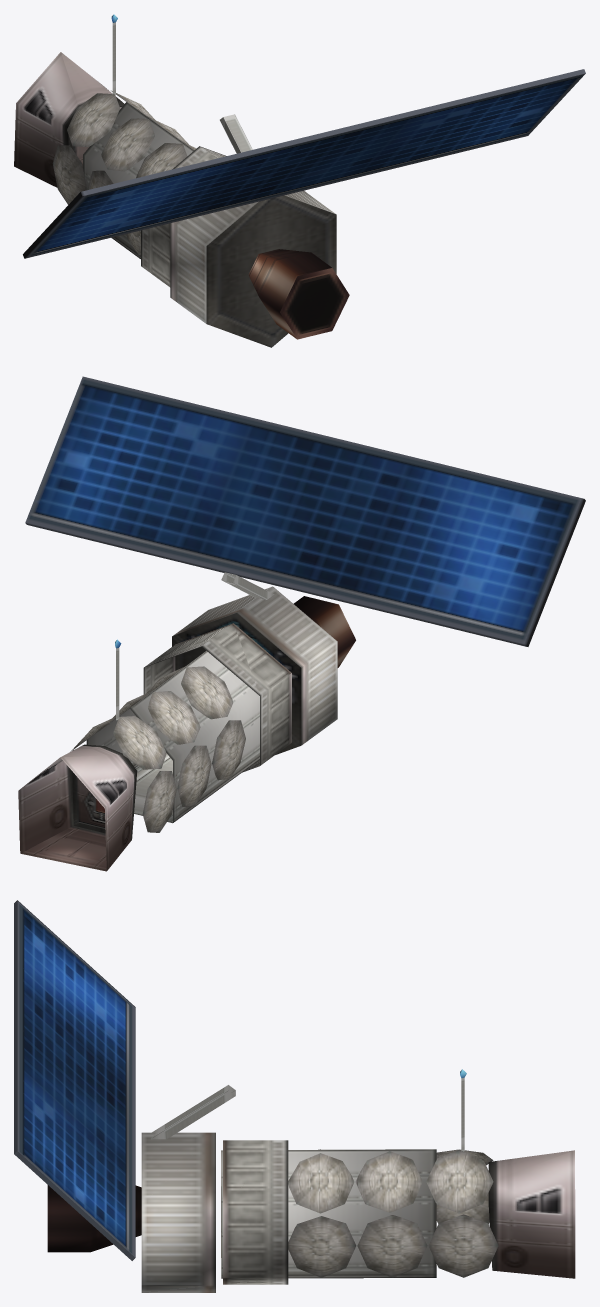
The model's file is utl05.obj.
3 renders of one model, top to bottom at view 1: azimuth 30°, elevation 25°; view 2: azimuth 150°, elevation 25°; view 3: azimuth 270°, elevation 25°, orthographic. The views are drawn at different scales.
Parts seen in each view (by area): view 1: frm-slrpan2, frm-afuselg2, frm-mfuselg2, frm-ffuselg, frm-engine, frm-mfuselg1, frm-afuselg1, frm-slrpan1; view 2: frm-slrpan2, frm-ffuselg, frm-mfuselg2, frm-afuselg2, frm-mfuselg1, frm-afuselg1, frm-engine; view 3: frm-slrpan2, frm-mfuselg2, frm-afuselg2, frm-ffuselg, frm-afuselg1, frm-mfuselg1, frm-engine, frm-slrpan1.
Part boxes in pixels (x1,y1,x2,y2): frm-slrpan2: (23, 69, 585, 258); frm-afuselg2: (170, 190, 336, 347); frm-mfuselg2: (52, 90, 196, 255); frm-ffuselg: (14, 52, 124, 187); frm-engine: (248, 249, 349, 339); frm-mfuselg1: (83, 102, 194, 258); frm-afuselg1: (141, 146, 226, 287); frm-slrpan1: (220, 114, 252, 153); frm-slrpan2: (25, 376, 585, 646); frm-ffuselg: (18, 744, 137, 871); frm-mfuselg2: (70, 666, 245, 832); frm-afuselg2: (172, 586, 337, 754); frm-mfuselg1: (86, 651, 259, 823); frm-afuselg1: (143, 623, 291, 772); frm-engine: (293, 596, 355, 667); frm-slrpan2: (14, 900, 135, 1260); frm-mfuselg2: (288, 1149, 498, 1277); frm-afuselg2: (141, 1132, 215, 1292); frm-ffuselg: (488, 1150, 575, 1278); frm-afuselg1: (223, 1140, 288, 1284); frm-mfuselg1: (221, 1149, 436, 1278); frm-engine: (47, 1185, 141, 1252); frm-slrpan1: (150, 1085, 235, 1139).
Size of what is drawn, in the model's own units: 12.77 by 6.36 by 12.31.
10 materials, 7 textured.
